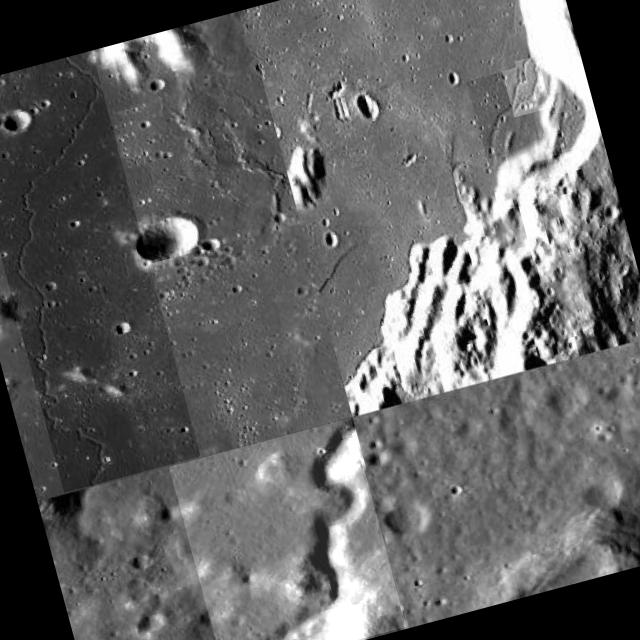rille: (0, 50, 200, 492), (168, 417, 406, 640), (466, 67, 541, 159), (502, 61, 550, 117), (514, 57, 536, 86)
